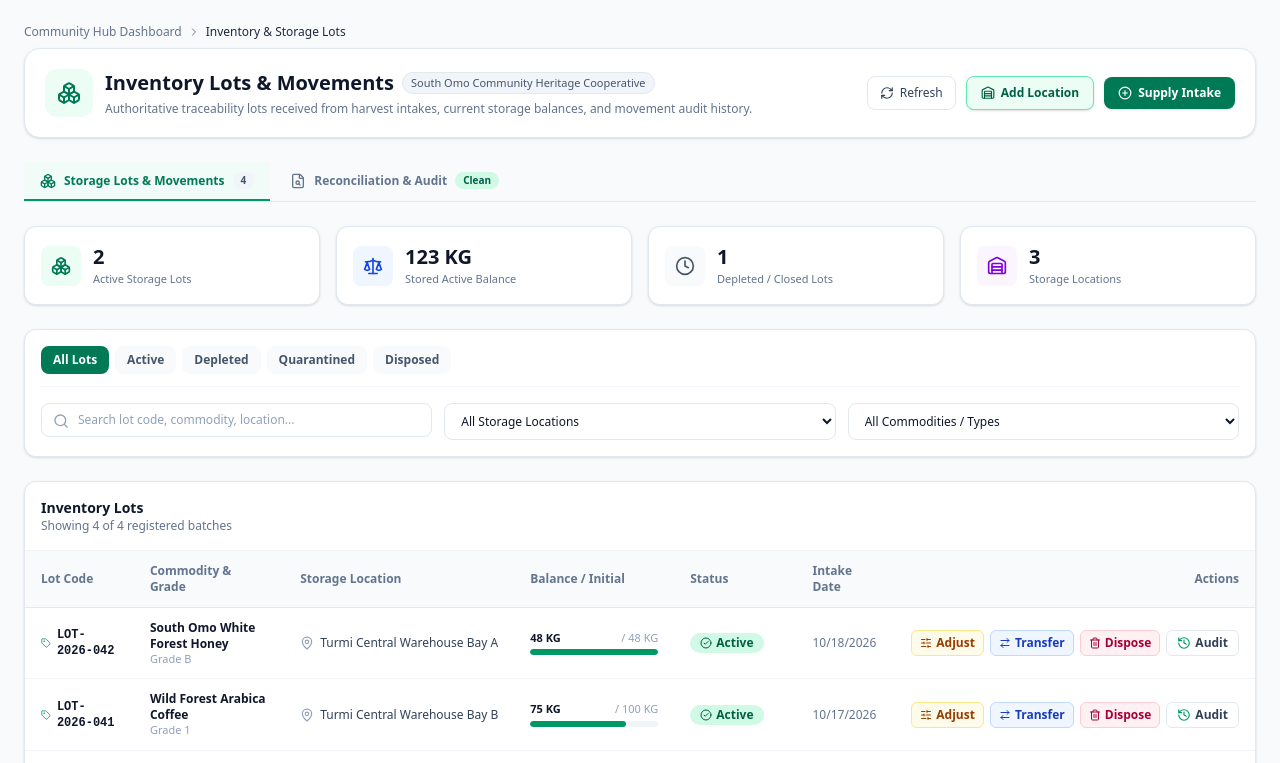
it: F-901: Inventory Lots and Movement Audit History › filters lots by location dropdown
Select "Turmi Central Warehouse Bay B (WAREHOUSE)" in the dropdown with test id "location-filter" at (640, 421), box [444,403,836,440]
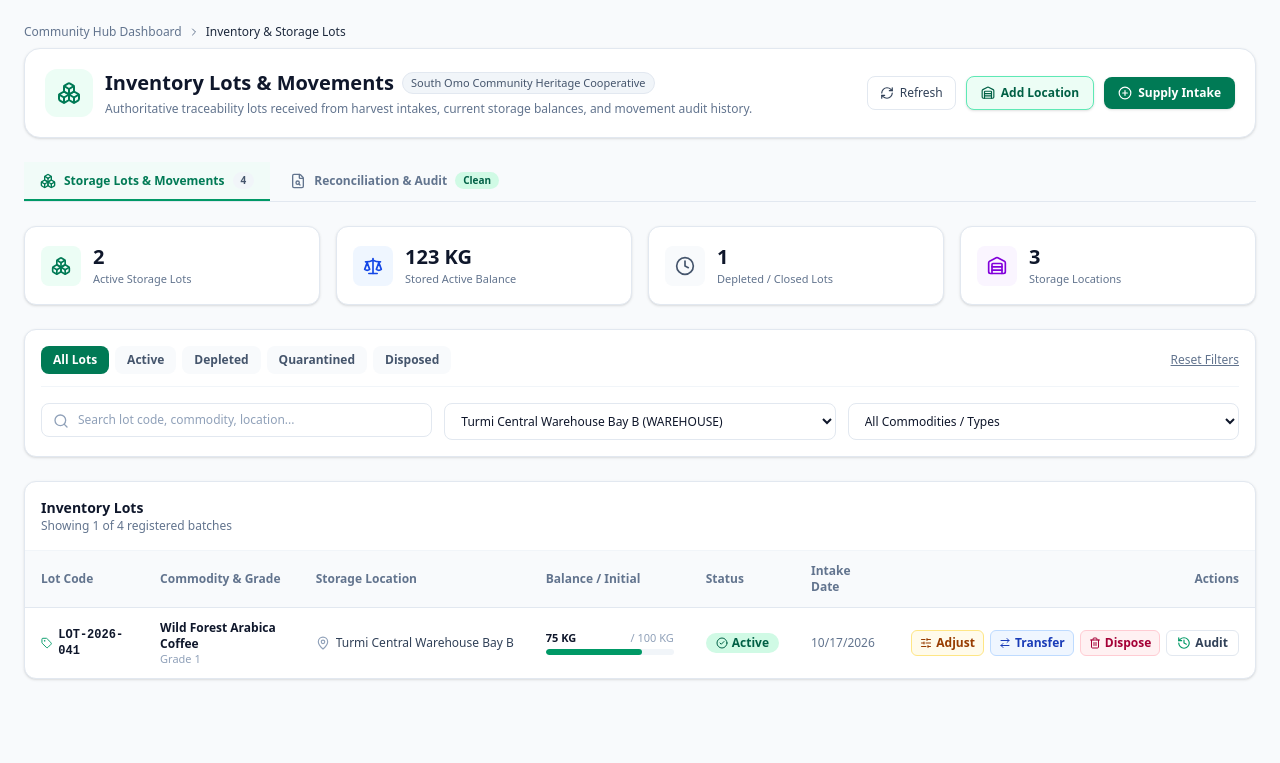
Expected: the text "LOT-2026-041" is shown, [58,627,128,659]
Expected: the text "LOT-2026-042" is gone
